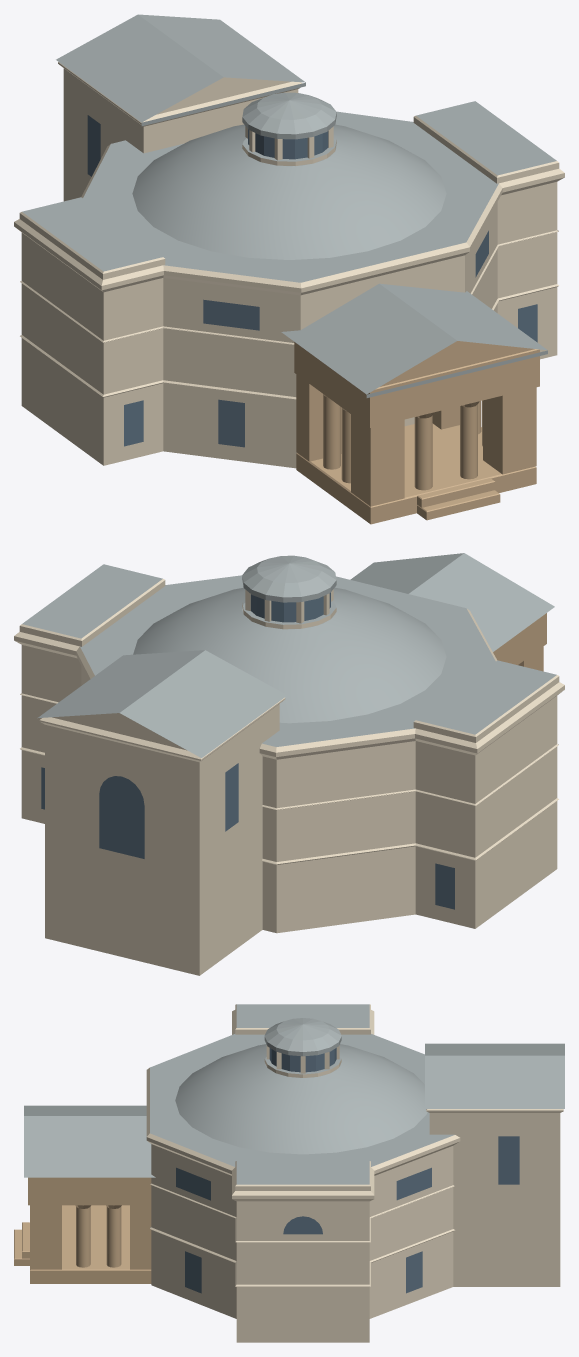
File: ric-monumental-church.glb
The picture shows the model from 3 angles, top to bottom: view 1: azimuth 30°, elevation 25°; view 2: azimuth 150°, elevation 25°; view 3: azimuth 270°, elevation 25°; orthographic projection. The views are drawn at different scales.
Visible parts, largest first — view 1: Monumental Church; view 2: Monumental Church; view 3: Monumental Church.
Boxes of the visible parts, x1,y1,x2,y2 form: Monumental Church: (14, 14, 564, 524); Monumental Church: (14, 553, 564, 975); Monumental Church: (14, 1004, 564, 1342).
Bounding box in the file's own units: 32.7 × 18.9 × 41.35.
